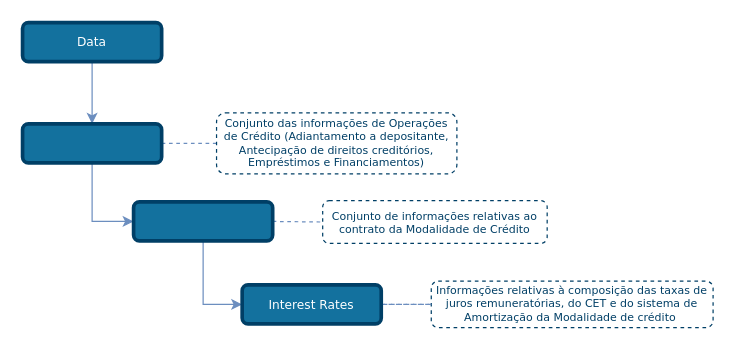
Some shapes in this 734 by 349 pixel diagram are drawn without their labels. Here are the shapes that lost their labels. From the top down, the centre of each, then its label:
point (91, 142): Bank Borrowing
point (202, 220): Contract
